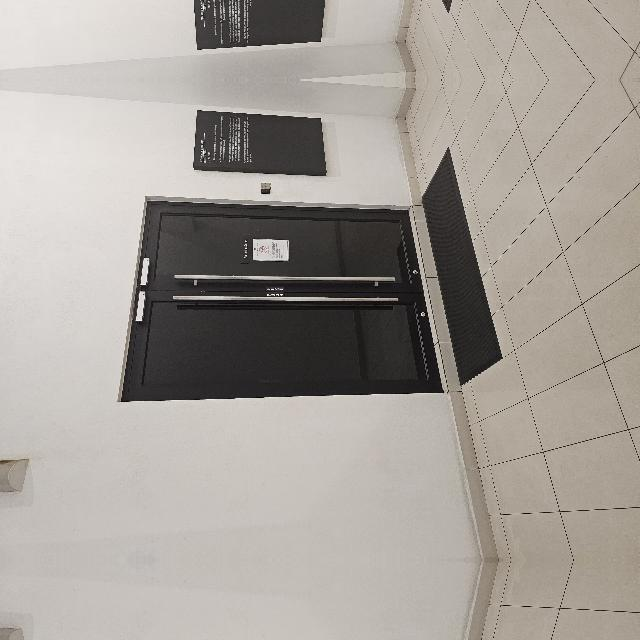door: (156, 195, 366, 527), (156, 593, 366, 640)
